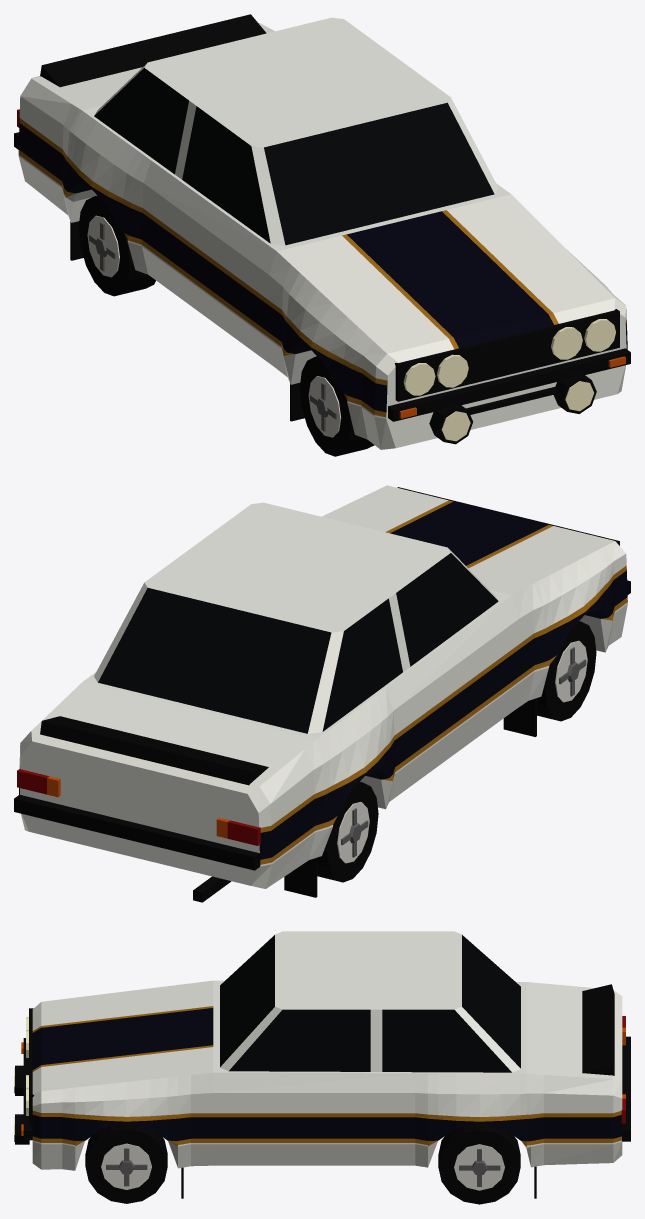
The model's file is escort-rs1800.glb.
The picture shows the model from 3 angles, top to bottom: view 1: azimuth 30°, elevation 25°; view 2: azimuth 150°, elevation 25°; view 3: azimuth 270°, elevation 25°; orthographic projection. The views are drawn at different scales.
Parts seen in each view (by area): view 1: body, cabin, cabin-body, body-navy, grille, lip-spoiler, body-gold, bumper-front, wheel-back-right, wheel-front-right, rim-front-right, rim-back-right (+9 smaller); view 2: body, cabin, cabin-body, body-navy, lip-spoiler, bumper-rear, body-gold, wheel-back-right, wheel-front-right, rim-front-right, rim-back-right, mudflap-r-right (+3 smaller); view 3: body, cabin, body-navy, cabin-body, body-gold, wheel-back-left, wheel-front-left, lip-spoiler, rim-back-left, rim-front-left, bumper-rear, bumper-front (+1 smaller).
Boxes of the visible parts, x1,y1,x2,y2 form: body: [18, 23, 626, 449]; cabin: [94, 68, 494, 245]; cabin-body: [94, 17, 498, 245]; body-navy: [18, 123, 627, 412]; grille: [394, 309, 619, 401]; lip-spoiler: [40, 14, 266, 87]; body-gold: [18, 118, 626, 417]; bumper-front: [388, 348, 630, 421]; wheel-back-right: [78, 195, 155, 296]; wheel-front-right: [299, 356, 374, 456]; rim-front-right: [308, 376, 341, 437]; rim-back-right: [87, 215, 119, 277]; body: [19, 485, 627, 888]; cabin: [98, 553, 498, 733]; cabin-body: [94, 502, 497, 733]; body-navy: [19, 501, 627, 859]; lip-spoiler: [40, 716, 268, 785]; bumper-rear: [14, 794, 260, 870]; body-gold: [19, 500, 627, 864]; wheel-back-right: [317, 782, 378, 882]; wheel-front-right: [537, 621, 596, 721]; rim-front-right: [555, 640, 587, 702]; rim-back-right: [337, 802, 369, 863]; mudflap-r-right: [284, 857, 317, 897]; body: [32, 980, 622, 1170]; cabin: [220, 935, 520, 1072]; body-navy: [32, 1008, 622, 1141]; cabin-body: [220, 931, 520, 1072]; body-gold: [32, 1006, 621, 1146]; wheel-back-left: [438, 1123, 520, 1204]; wheel-front-left: [85, 1123, 167, 1203]; lip-spoiler: [582, 984, 614, 1075]; rim-back-left: [454, 1144, 504, 1190]; rim-front-left: [101, 1143, 151, 1189]; bumper-rear: [621, 1036, 630, 1141]; bumper-front: [23, 1038, 32, 1140].
Bounding box in the file's own units: 1.74 × 1.39 × 4.2.
